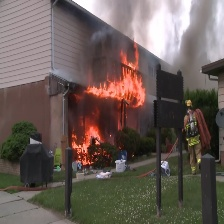fire: (69, 53, 148, 170)
